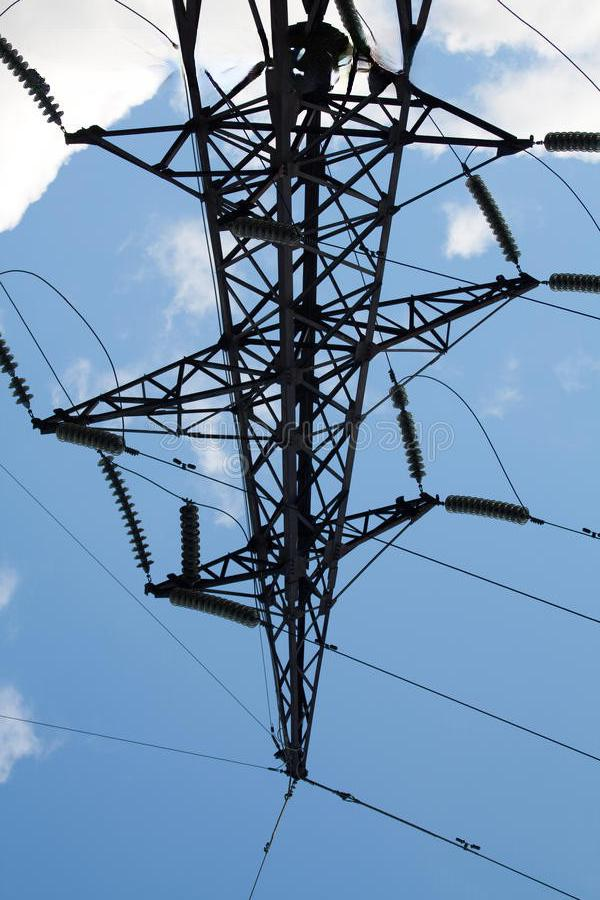insulator: (95, 454, 156, 572), (1, 31, 66, 127), (462, 173, 524, 267), (165, 581, 263, 632), (386, 382, 429, 483), (441, 491, 533, 529), (226, 214, 305, 252), (53, 417, 126, 458), (1, 330, 36, 407), (175, 501, 206, 581), (537, 127, 600, 158), (545, 271, 600, 300)
insulator_stringdrop: (1, 360, 29, 391), (389, 398, 414, 424)
